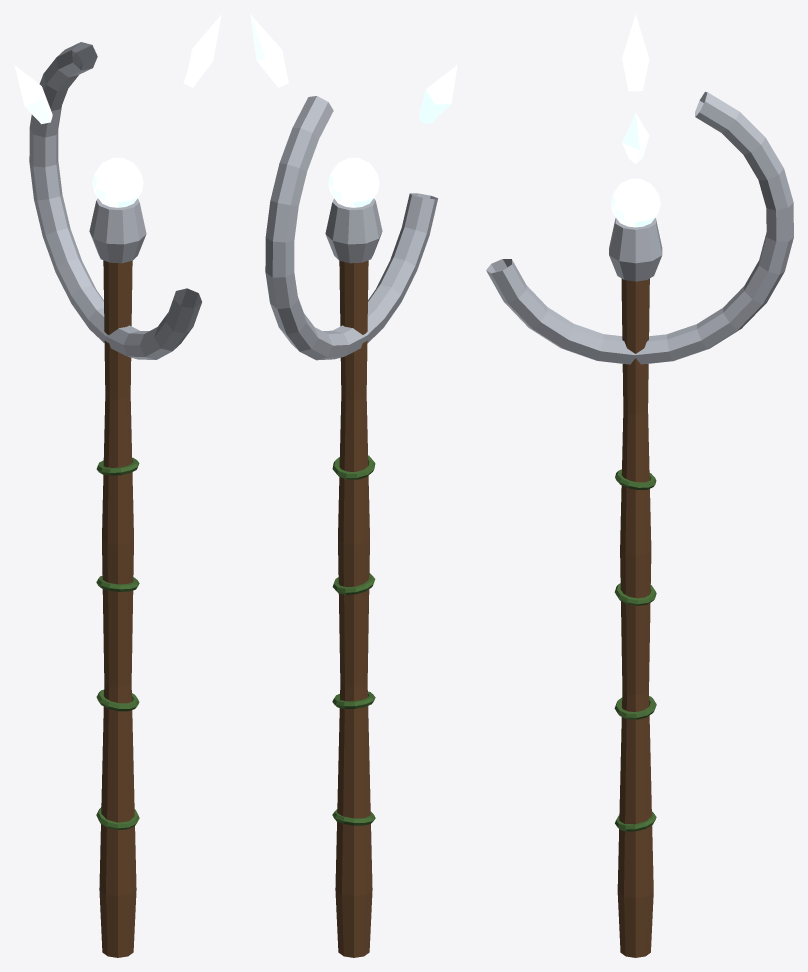
Rendered from staff_crescent.glb.
The picture shows the model from 3 angles, left to right: view 1: azimuth 30°, elevation 25°; view 2: azimuth 150°, elevation 25°; view 3: azimuth 270°, elevation 25°; orthographic projection. The views are drawn at different scales.
Visible parts, largest first — view 1: Cres_Shaft, Cres_Moon, Cres_Socket, Cres_Orb, Cres_Tip1, Cres_Tip0; view 2: Cres_Shaft, Cres_Moon, Cres_Socket, Cres_Orb, Cres_Tip1, Cres_Tip0, Cres_Wrap3; view 3: Cres_Shaft, Cres_Moon, Cres_Socket, Cres_Orb, Cres_Tip0, Cres_Tip1.
Part boxes in pixels (x1=…): Cres_Shaft: x1=99, y1=260, x2=136, y2=957; Cres_Moon: x1=29, y1=42, x2=201, y2=359; Cres_Socket: x1=89, y1=198, x2=146, y2=263; Cres_Orb: x1=92, y1=157, x2=143, y2=207; Cres_Tip1: x1=183, y1=14, x2=221, y2=87; Cres_Tip0: x1=14, y1=65, x2=52, y2=124; Cres_Shaft: x1=335, y1=260, x2=372, y2=957; Cres_Moon: x1=265, y1=96, x2=437, y2=360; Cres_Socket: x1=325, y1=198, x2=382, y2=263; Cres_Orb: x1=328, y1=157, x2=379, y2=207; Cres_Tip1: x1=250, y1=14, x2=288, y2=87; Cres_Tip0: x1=419, y1=65, x2=457, y2=124; Cres_Wrap3: x1=332, y1=455, x2=375, y2=479; Cres_Shaft: x1=617, y1=278, x2=653, y2=957; Cres_Moon: x1=486, y1=91, x2=793, y2=364; Cres_Socket: x1=609, y1=218, x2=662, y2=281; Cres_Orb: x1=610, y1=178, x2=660, y2=227; Cres_Tip0: x1=622, y1=14, x2=649, y2=91; Cres_Tip1: x1=622, y1=113, x2=649, y2=163.
Size of the model in its own units: 0.4834 by 2.03 by 0.6379.
